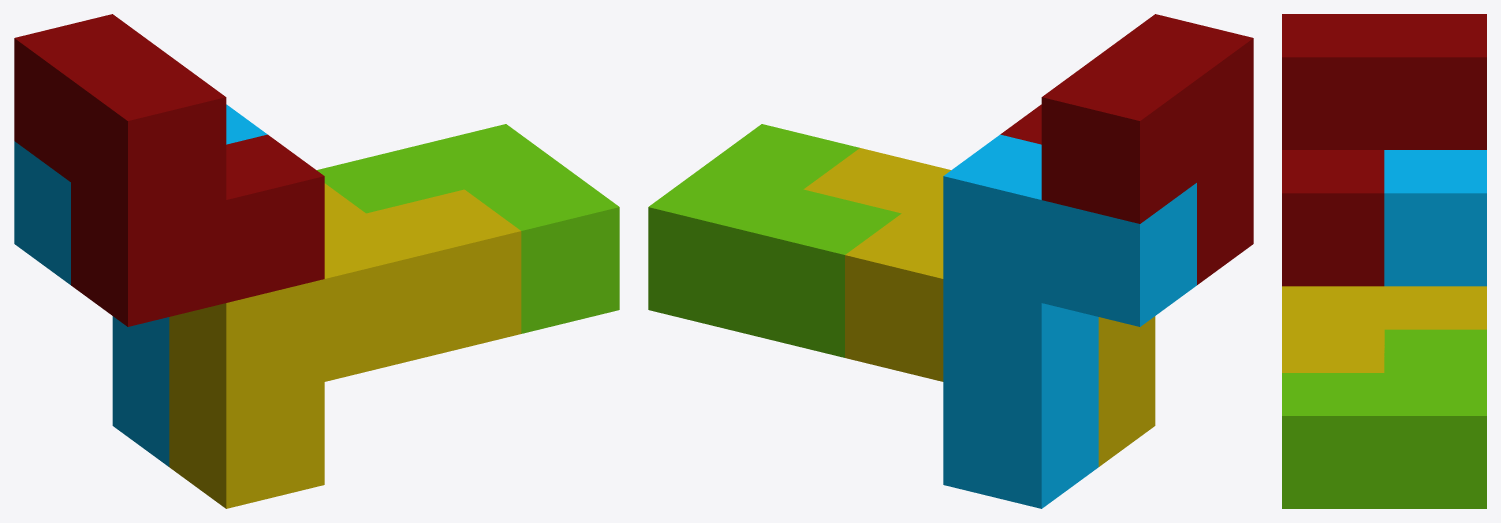
The picture shows the model from 3 angles, left to right: view 1: azimuth 30°, elevation 25°; view 2: azimuth 150°, elevation 25°; view 3: azimuth 270°, elevation 25°; orthographic projection. The views are drawn at different scales.
Parts seen in each view (by area): view 1: mergedBlocks(Clone); view 2: mergedBlocks(Clone); view 3: mergedBlocks(Clone).
Part boxes in pixels (x1,y1,x2,y2): mergedBlocks(Clone): (14,14,619,508); mergedBlocks(Clone): (648,14,1253,508); mergedBlocks(Clone): (1282,14,1486,508).
Bounding box in the file's own units: 5 × 4 × 2.
Materials: 4 (4 with a texture image).
